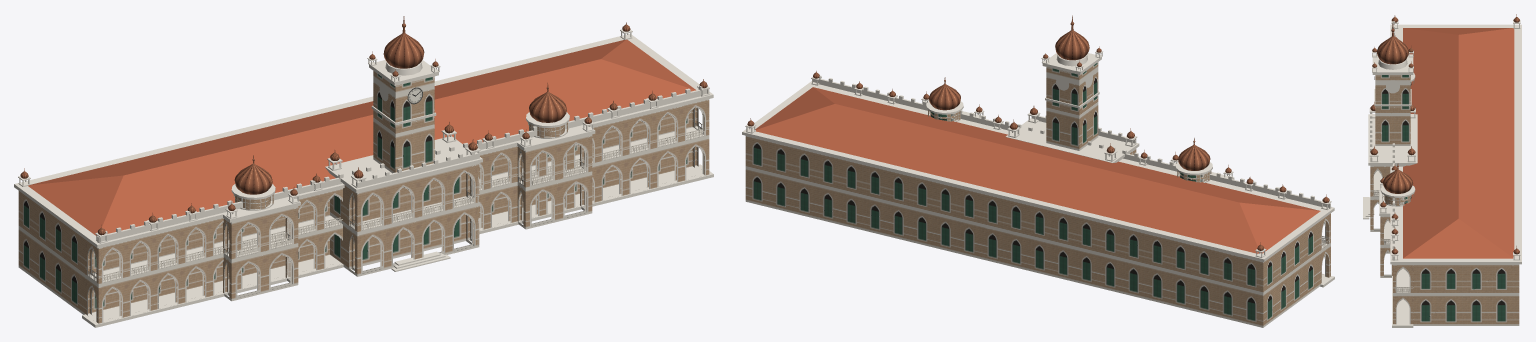
Rendered from sultan-abdul-samad-building.glb.
The picture shows the model from 3 angles, left to right: view 1: azimuth 30°, elevation 25°; view 2: azimuth 150°, elevation 25°; view 3: azimuth 270°, elevation 25°; orthographic projection. The views are drawn at different scales.
Visible parts, largest first — view 1: sas_arcade, sas_roof, sas_white, sas_wall, sas_copper; view 2: sas_wall, sas_roof, sas_white, sas_copper, sas_arcade; view 3: sas_roof, sas_wall, sas_white, sas_arcade, sas_copper.
Part boxes in pixels (x1,y1,x2,y2): sas_arcade: [85, 99, 709, 323]; sas_roof: [28, 39, 695, 235]; sas_white: [14, 29, 713, 327]; sas_wall: [18, 71, 692, 314]; sas_copper: [20, 16, 707, 235]; sas_wall: [745, 62, 1320, 327]; sas_roof: [755, 87, 1320, 253]; sas_white: [742, 51, 1334, 287]; sas_copper: [747, 15, 1329, 250]; sas_arcade: [928, 110, 1330, 283]; sas_roof: [1403, 28, 1514, 258]; sas_wall: [1375, 75, 1519, 325]; sas_white: [1363, 20, 1521, 327]; sas_arcade: [1370, 80, 1414, 324]; sas_copper: [1370, 14, 1519, 254].
Size of the model in its own units: 111 by 40.98 by 31.4.
Materials: 7 (4 with a texture image).
